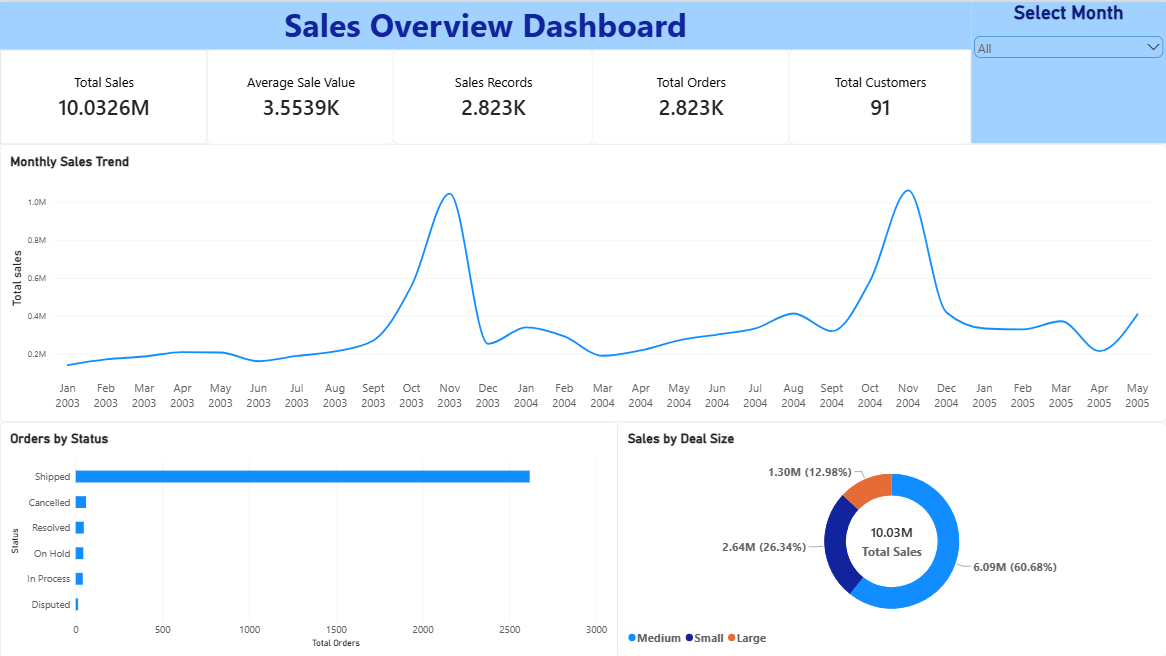

The dashboard page shown, as its layout file describes it:
{"tool":"powerbi","page":{"name":"Sales Overview","canvas":[1920,1080],"ordinal":0},"visuals":[{"type":"cardVisual","fields":{"Data":["sales.Total Sales"]},"box":[0,78.2,341.7,156.4],"z":0},{"type":"cardVisual","title":"Average Sales Value","fields":{"Data":["sales.Average Sale"]},"box":[341.7,78.2,306.7,156.4],"z":1000},{"type":"cardVisual","fields":{"Data":["sales.Count Rows"]},"box":[648.4,78.2,327.3,156.4],"z":2000},{"type":"cardVisual","fields":{"Data":["orders.Total Orders"]},"box":[975.6,78.2,323.2,156.4],"z":3000},{"type":"cardVisual","fields":{"Data":["Customers.Total Customers"]},"box":[1298.8,78.2,300.5,156.4],"z":4000},{"type":"lineChart","title":"Monthly Sales Trend","fields":{"Category":["Calendar.Year Month Label"],"Y":["Sum(sales.sales)"]},"box":[0,234.6,1920.4,456.9],"z":5000},{"type":"clusteredBarChart","title":"Orders by Status","fields":{"Category":["orders. Status "],"Y":["orders.Total Orders"]},"box":[0,691.6,1016.8,389],"z":6000},{"type":"donutChart","title":"Sales by Deal Size","fields":{"Category":["sales.deal_size"],"Y":["sales.Total Sales"]},"box":[1016.8,691.6,903.6,389],"z":7000},{"type":"slicer","title":"Select Month","fields":{"Values":["Calendar.Year Month Label"]},"box":[1599.3,1,321.1,232.6],"z":8000},{"type":"textbox","box":[100.9,100.9,1348.2,55.6],"z":9000},{"type":"textbox","box":[0,0,1599.3,78.2],"z":10000}]}

Visuals, with their boxes in screenshot pixels (x1, y1, x2, y2), scaled from the page's 1920x1080 canvas onto the 1166x656 screenshot:
cardVisual - sales.Total Sales: [0,47,208,142]
"Average Sales Value" cardVisual: [208,47,394,142]
cardVisual - sales.Count Rows: [394,47,593,142]
cardVisual - orders.Total Orders: [592,47,789,142]
cardVisual - Customers.Total Customers: [789,47,971,142]
"Monthly Sales Trend" lineChart: [0,142,1165,420]
"Orders by Status" clusteredBarChart: [0,420,617,655]
"Sales by Deal Size" donutChart: [617,420,1165,655]
"Select Month" slicer: [971,1,1165,142]
textbox: [61,61,880,95]
textbox: [0,0,971,47]
